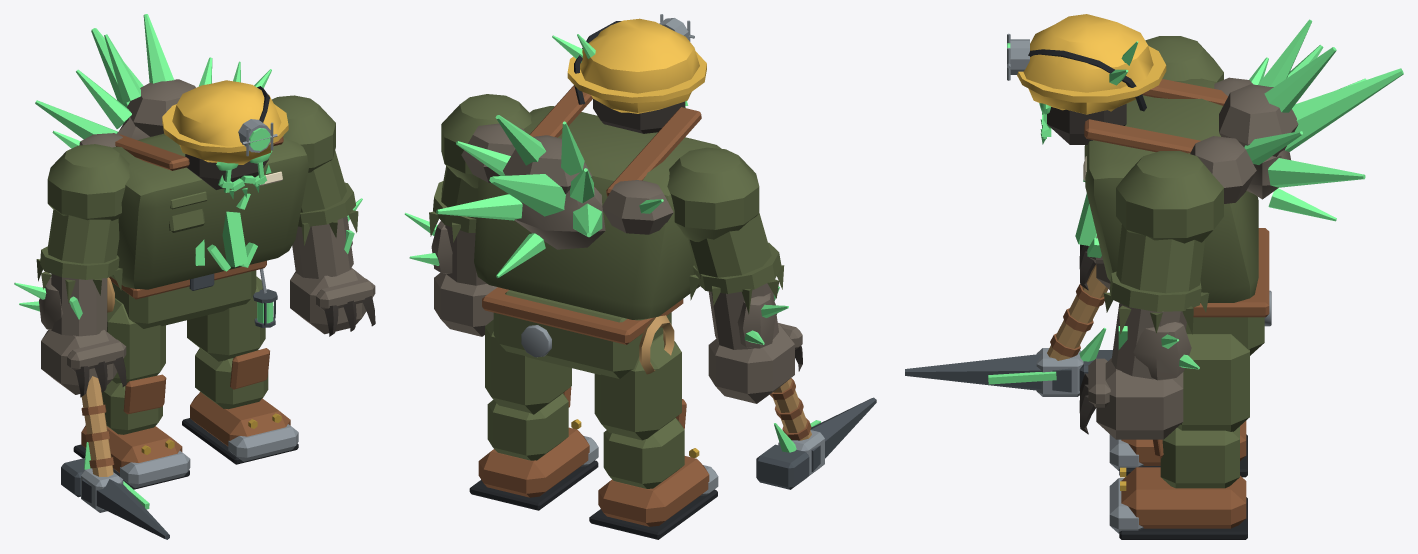
Rendered from Monster_HollowMiner.fbx.
The picture shows the model from 3 angles, left to right: view 1: azimuth 30°, elevation 25°; view 2: azimuth 150°, elevation 25°; view 3: azimuth 270°, elevation 25°; orthographic projection. The views are drawn at different scales.
Parts seen in each view (by area): view 1: Torso, RightLowerArm, RightUpperArm, LeftLowerLeg, Head, TorsoGlow, RightLowerLeg, LeftLowerArm, Pelvis, LeftUpperArm, LeftUpperLeg, RightUpperLeg (+2 smaller); view 2: Torso, RightLowerArm, RightUpperArm, Head, Pelvis, RightLowerLeg, LeftLowerLeg, TorsoGlow, RightUpperLeg, LeftUpperArm, LeftLowerArm, LeftUpperLeg (+1 smaller); view 3: Torso, LeftUpperArm, Head, LeftLowerLeg, LeftLowerArm, TorsoGlow, RightLowerArm, LeftUpperLeg, Pelvis, RightUpperArm, RightLowerLeg, RightArmGlow (+1 smaller).
Part boxes in pixels (bbox=[...]): Torso: bbox=[79, 79, 308, 289]; RightLowerArm: bbox=[39, 274, 169, 539]; RightUpperArm: bbox=[36, 144, 129, 303]; LeftLowerLeg: bbox=[182, 348, 298, 464]; Head: bbox=[162, 80, 288, 189]; TorsoGlow: bbox=[35, 14, 257, 271]; RightLowerLeg: bbox=[73, 374, 190, 489]; LeftLowerArm: bbox=[290, 216, 375, 336]; Pelvis: bbox=[107, 260, 277, 328]; LeftUpperArm: bbox=[272, 95, 358, 245]; LeftUpperLeg: bbox=[187, 276, 265, 361]; RightUpperLeg: bbox=[106, 298, 165, 383]; Torso: bbox=[461, 85, 721, 320]; RightLowerArm: bbox=[708, 283, 876, 489]; RightUpperArm: bbox=[667, 147, 784, 314]; Head: bbox=[567, 14, 706, 133]; Pelvis: bbox=[482, 287, 683, 378]; RightLowerLeg: bbox=[589, 399, 718, 539]; LeftLowerLeg: bbox=[469, 387, 598, 510]; TorsoGlow: bbox=[436, 115, 663, 278]; RightUpperLeg: bbox=[594, 333, 681, 440]; LeftUpperArm: bbox=[429, 94, 531, 242]; LeftLowerArm: bbox=[431, 221, 497, 336]; LeftUpperLeg: bbox=[485, 319, 571, 414]; Torso: bbox=[1083, 77, 1298, 302]; LeftUpperArm: bbox=[1103, 151, 1223, 334]; Head: bbox=[1007, 14, 1166, 144]; LeftLowerLeg: bbox=[1109, 426, 1247, 539]; LeftLowerArm: bbox=[1079, 303, 1191, 439]; TorsoGlow: bbox=[1075, 19, 1403, 257]; RightLowerArm: bbox=[905, 236, 1112, 396]; LeftUpperLeg: bbox=[1177, 334, 1249, 431]; Pelvis: bbox=[1186, 228, 1271, 355]; RightUpperArm: bbox=[1145, 36, 1223, 82]; RightLowerLeg: bbox=[1109, 421, 1247, 477]; RightArmGlow: bbox=[988, 327, 1106, 384].
Bounding box in the file's own units: 6.29 × 6.84 × 6.59.
